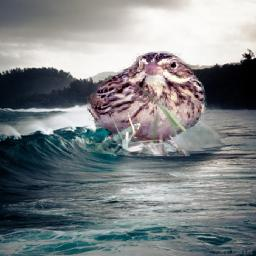Sparrow: (87, 52, 207, 157)
